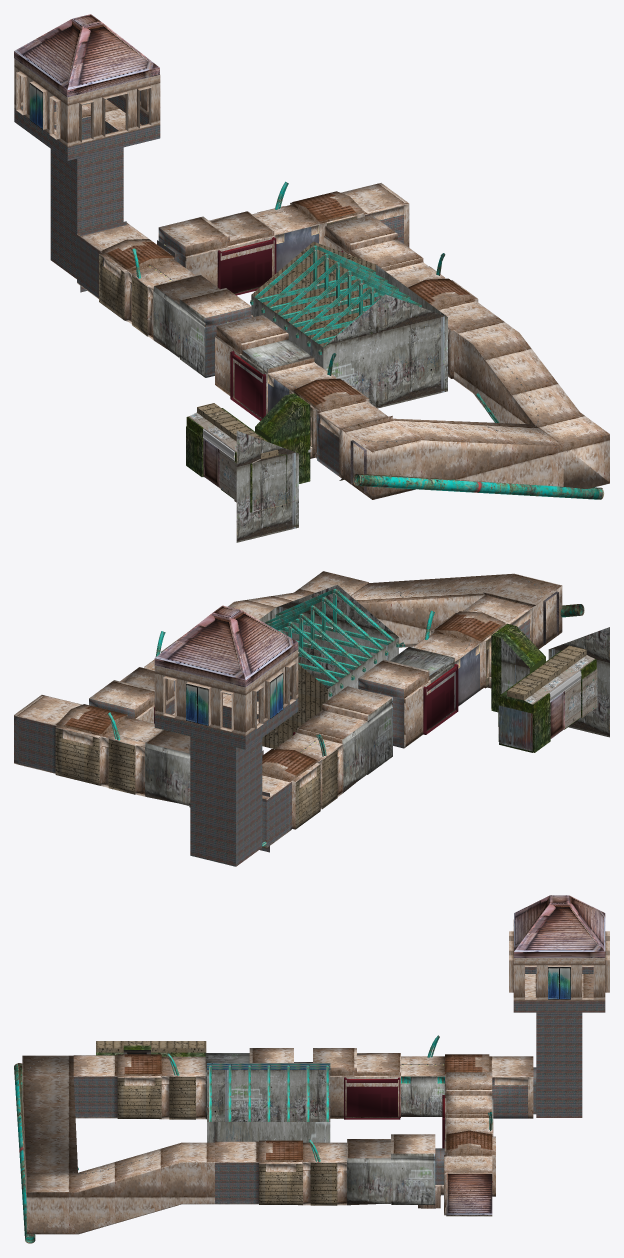
3 renders of one model, top to bottom at view 1: azimuth 30°, elevation 25°; view 2: azimuth 150°, elevation 25°; view 3: azimuth 270°, elevation 25°, orthographic. The views are drawn at different scales.
Parts seen in each view (by area): view 1: Cube.002, Cube.001; view 2: Cube.002, Cube.001; view 3: Cube.002, Cube.001.
Part boxes in pixels (bbox=[...]): Cube.002: bbox=[14, 14, 609, 542]; Cube.001: bbox=[250, 245, 421, 354]; Cube.002: bbox=[14, 571, 609, 866]; Cube.001: bbox=[265, 589, 399, 696]; Cube.002: bbox=[14, 895, 609, 1243]; Cube.001: bbox=[209, 1065, 328, 1121].
Size of the model in its own units: 3565 by 2751 by 5724.
